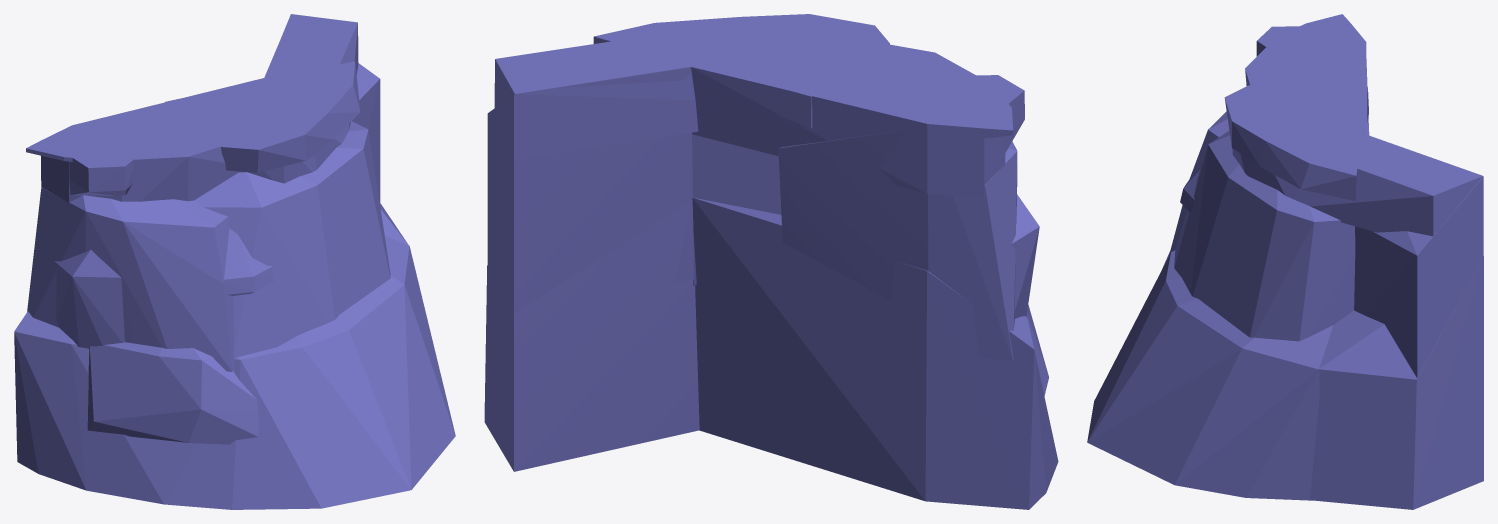
The model's file is Cliff_Corner_04_Slope_Collider_01.FBX.
3 views of the same model, side by side, from view 1: azimuth 30°, elevation 25°; view 2: azimuth 150°, elevation 25°; view 3: azimuth 270°, elevation 25° (orthographic). The views are drawn at different scales.
Visible parts, largest first — view 1: COLLIDER6, COLLIDER9, COLLIDER10, COLLIDER2, COLLIDER8, COLLIDER5, COLLIDER11, COLLIDER1, COLLIDER4, COLLIDER13, COLLIDER12, COLLIDER3; view 2: COLLIDER6, COLLIDER7, COLLIDER2, COLLIDER10, COLLIDER12, COLLIDER5, COLLIDER9, COLLIDER1, COLLIDER11, COLLIDER4, COLLIDER3; view 3: COLLIDER6, COLLIDER7, COLLIDER9, COLLIDER5, COLLIDER12, COLLIDER2, COLLIDER1, COLLIDER10, COLLIDER4.
Part boxes in pixels (<box>): COLLIDER6: <box>14,236,455,509</box>; COLLIDER9: <box>194,121,390,361</box>; COLLIDER10: <box>27,187,234,371</box>; COLLIDER2: <box>41,78,304,202</box>; COLLIDER8: <box>87,342,258,444</box>; COLLIDER5: <box>238,14,358,183</box>; COLLIDER11: <box>54,249,124,348</box>; COLLIDER1: <box>165,61,360,172</box>; COLLIDER4: <box>67,154,139,195</box>; COLLIDER13: <box>224,228,273,295</box>; COLLIDER12: <box>264,56,380,202</box>; COLLIDER3: <box>26,140,72,161</box>; COLLIDER6: <box>692,197,1058,509</box>; COLLIDER7: <box>484,193,699,471</box>; COLLIDER2: <box>691,23,1005,198</box>; COLLIDER10: <box>778,129,1017,360</box>; COLLIDER12: <box>487,67,693,312</box>; COLLIDER5: <box>494,19,870,159</box>; COLLIDER9: <box>692,134,781,285</box>; COLLIDER1: <box>593,14,889,128</box>; COLLIDER11: <box>1011,194,1039,318</box>; COLLIDER4: <box>960,75,1024,152</box>; COLLIDER3: <box>984,104,1013,138</box>; COLLIDER6: <box>1087,250,1333,500</box>; COLLIDER7: <box>1310,256,1483,509</box>; COLLIDER9: <box>1174,131,1355,341</box>; COLLIDER5: <box>1232,93,1482,236</box>; COLLIDER12: <box>1354,176,1483,377</box>; COLLIDER2: <box>1245,23,1367,134</box>; COLLIDER1: <box>1224,85,1368,201</box>; COLLIDER10: <box>1169,68,1369,255</box>; COLLIDER4: <box>1256,26,1309,56</box>.
Bounding box in the file's own units: 927 × 667 × 785.
